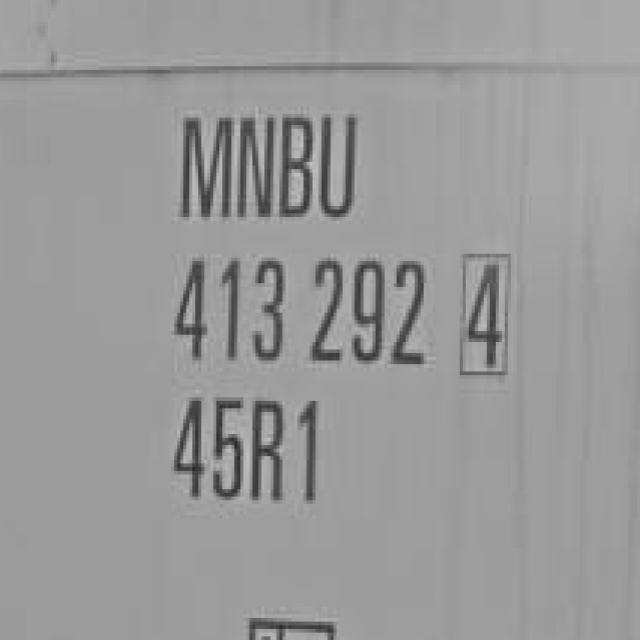dv: (450, 241, 523, 385)
owner: (172, 104, 364, 230)
serial: (168, 248, 436, 376)
size: (163, 388, 331, 512)
